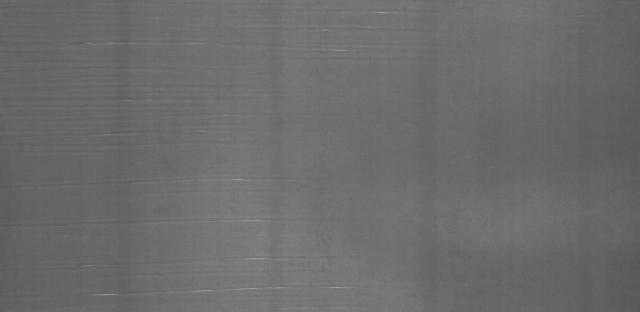waist_folding: (15, 14, 498, 286)
